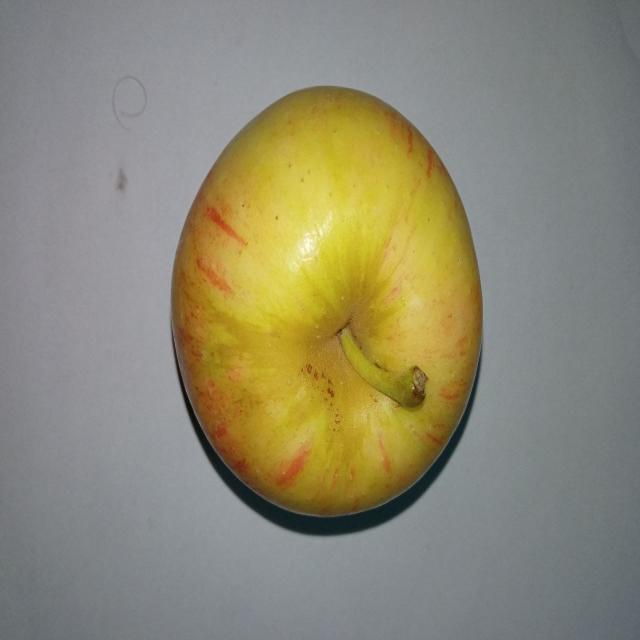fresh_apple: (169, 84, 479, 517)
